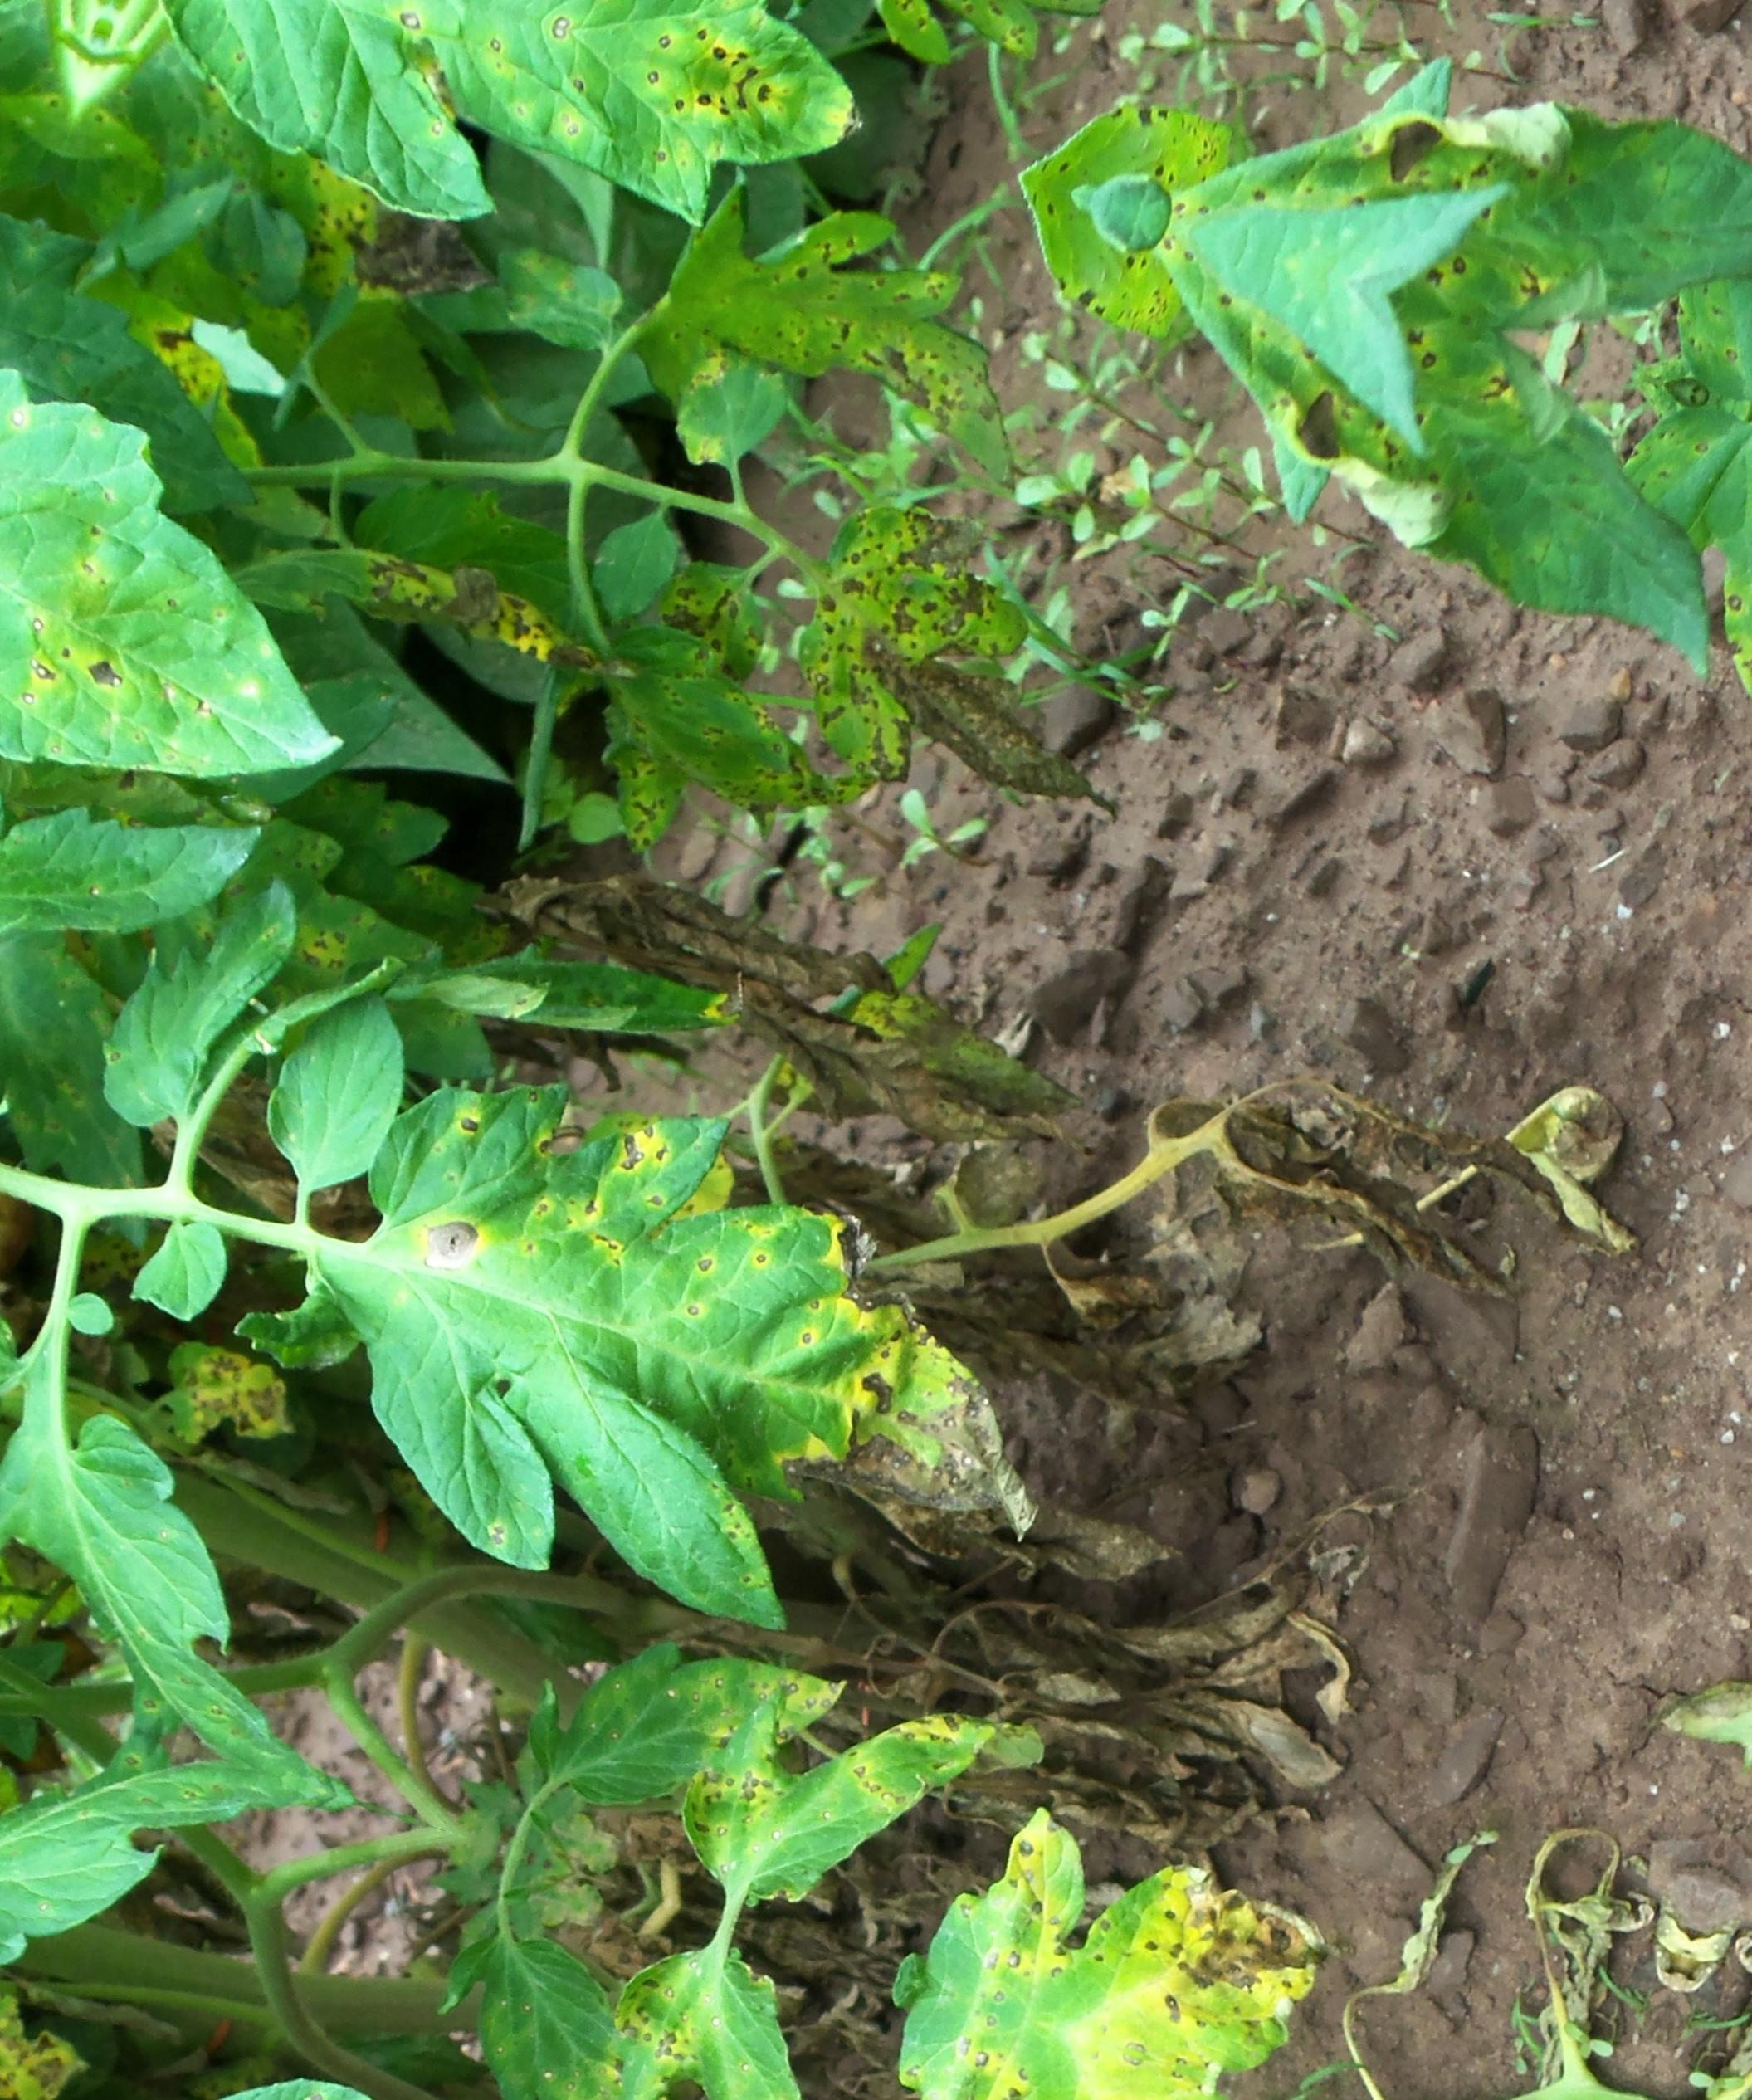Tomato Septoria leaf spot: (223, 998, 1098, 1697), (108, 0, 947, 396), (0, 281, 490, 930), (884, 1762, 1362, 2100), (1497, 370, 1752, 928), (692, 1645, 995, 1955)
